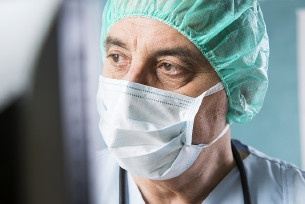Mask: (93, 29, 244, 179)
